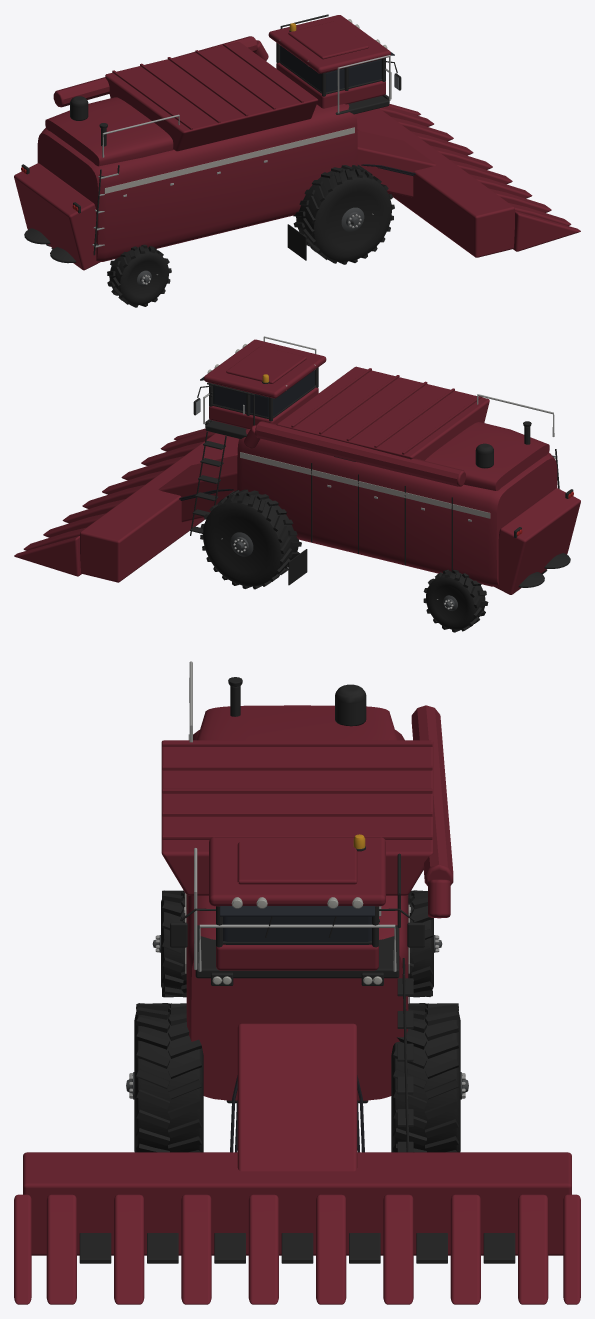
File: SM_Prop_farm_combine_4.glb
3 renders of one model, top to bottom at view 1: azimuth 30°, elevation 25°; view 2: azimuth 150°, elevation 25°; view 3: azimuth 270°, elevation 25°, orthographic. The views are drawn at different scales.
Visible parts, largest first — view 1: SM_Prop_farm_combine_4; view 2: SM_Prop_farm_combine_4; view 3: SM_Prop_farm_combine_4.
Boxes of the visible parts, x1,y1,x2,y2 form: SM_Prop_farm_combine_4: (14, 14, 580, 307); SM_Prop_farm_combine_4: (14, 336, 580, 632); SM_Prop_farm_combine_4: (14, 661, 580, 1304).
Size of the model in its own units: 10.3 by 4.1 by 6.4.
